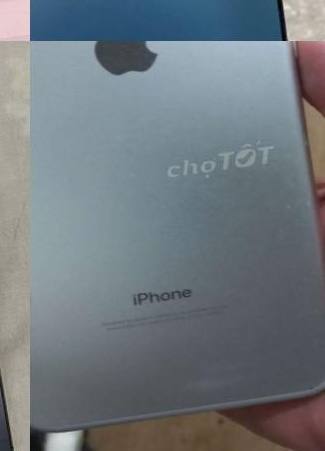scratch: (168, 369, 275, 409), (267, 168, 321, 236), (289, 264, 325, 362), (224, 236, 257, 262), (304, 378, 325, 400)
